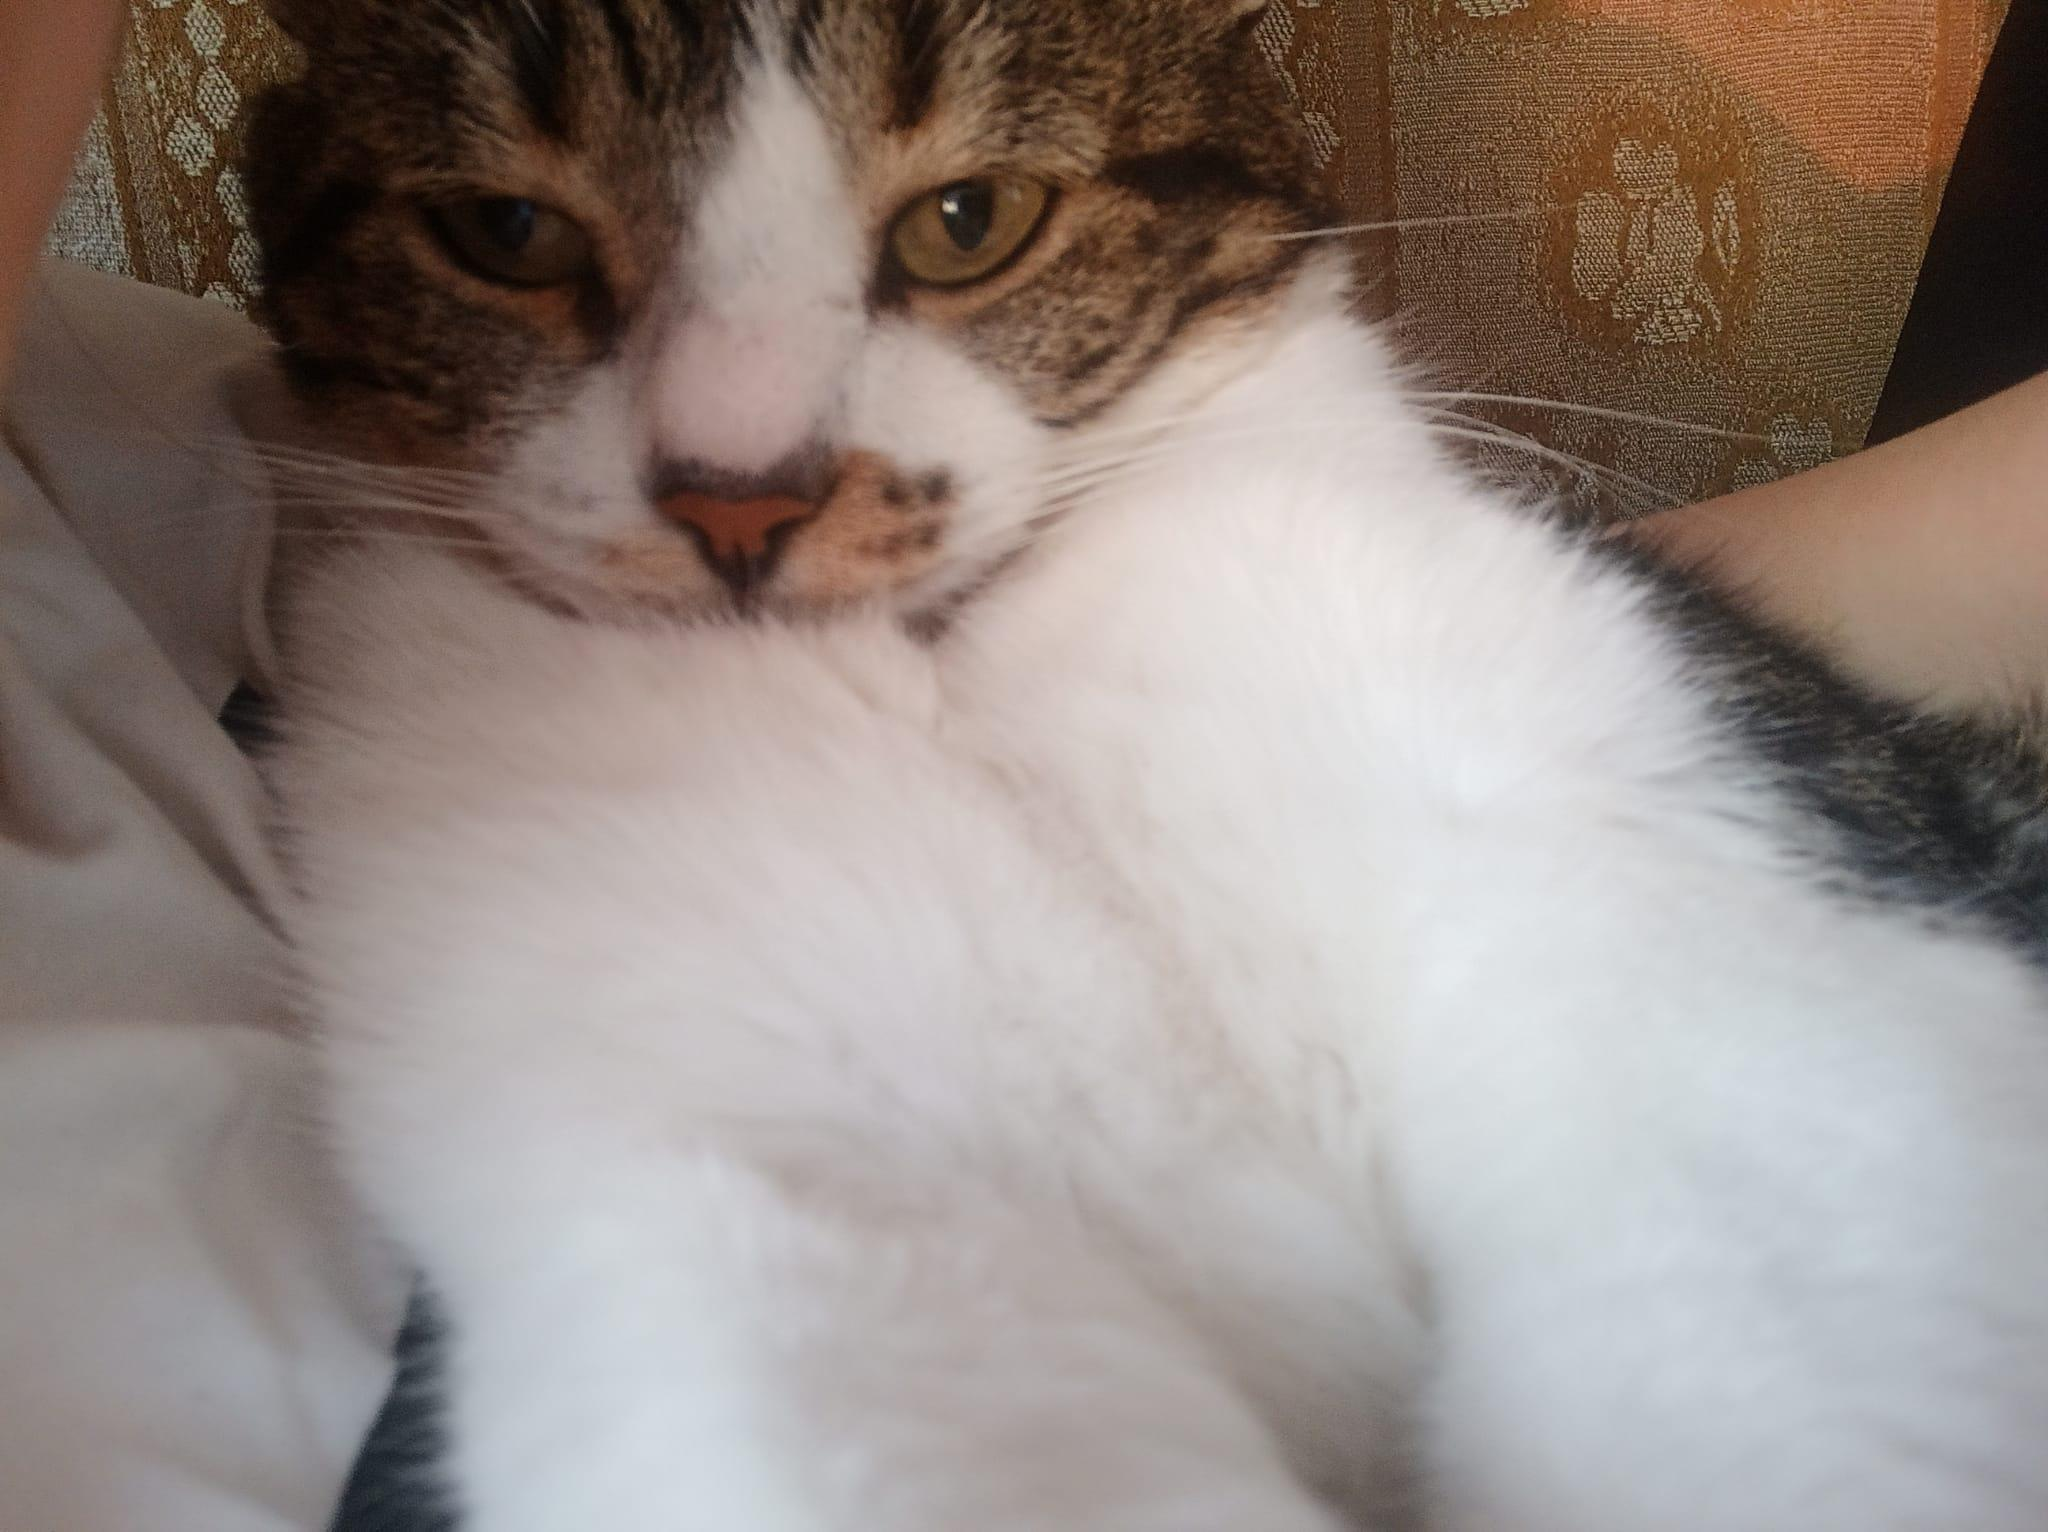kedo: (227, 3, 2048, 1530)
